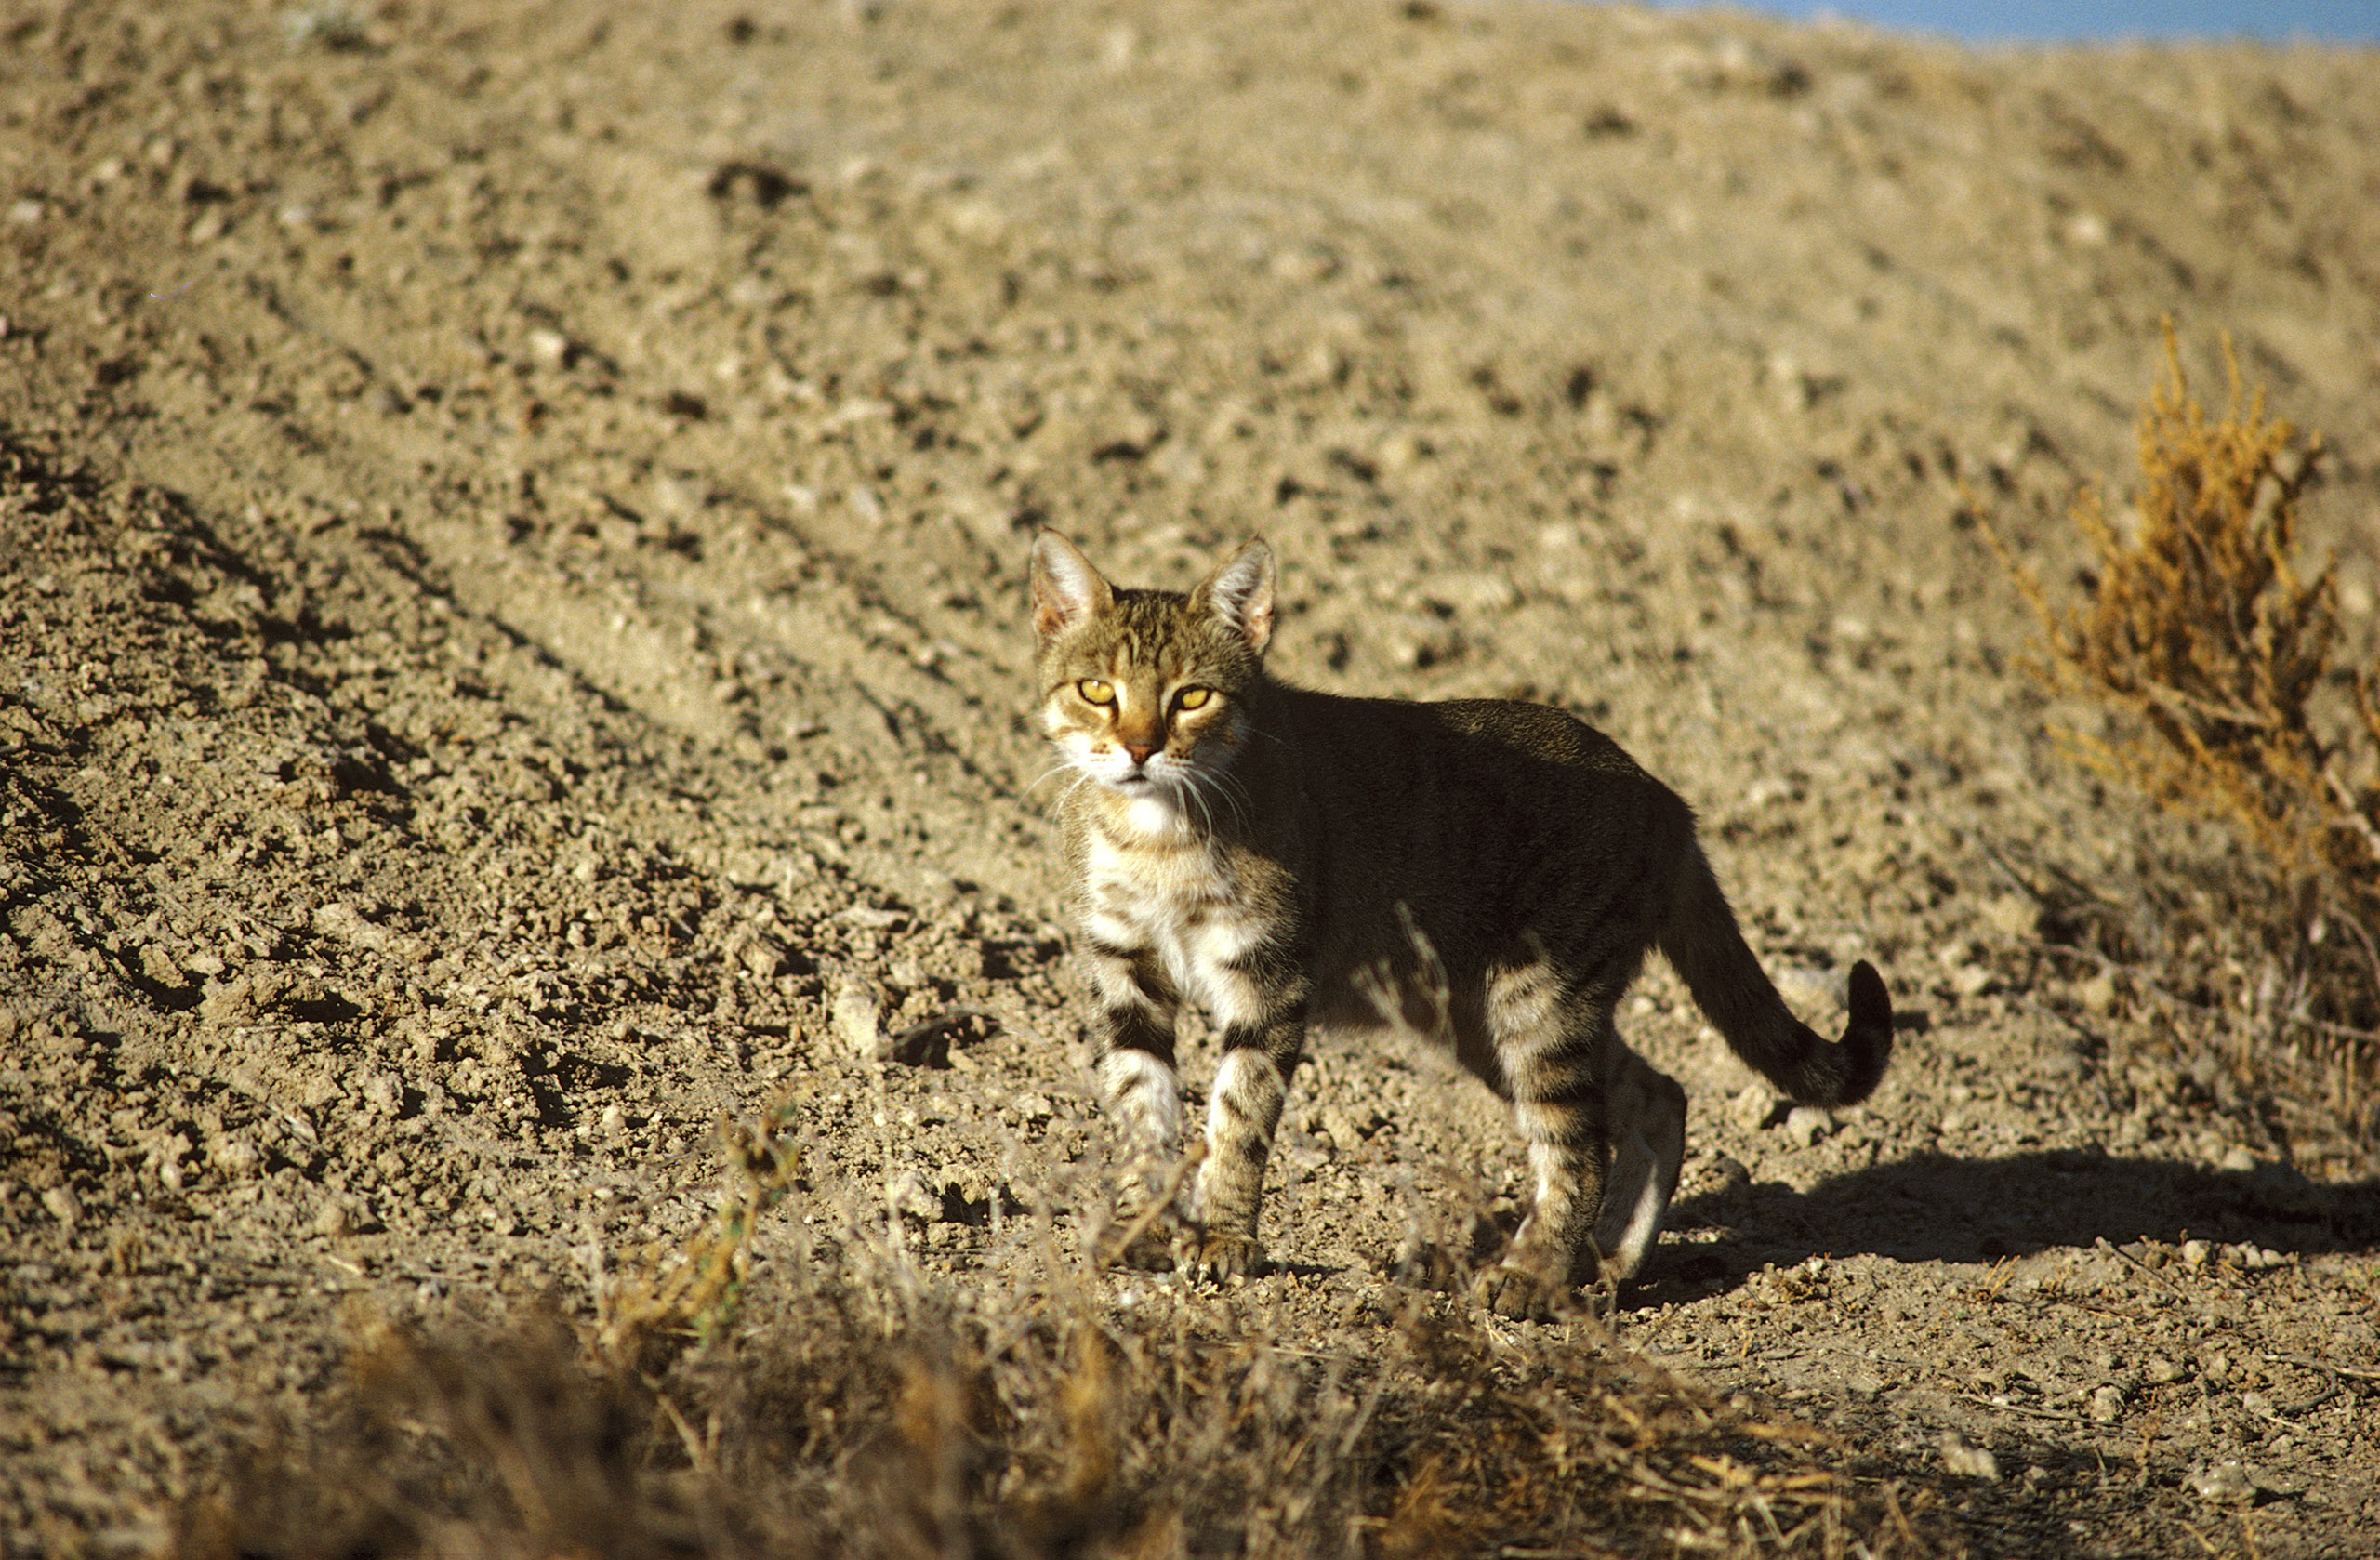Cat: (991, 496, 1924, 1360)
